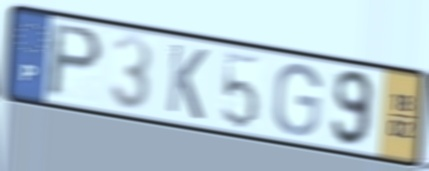3: (107, 30, 155, 115)
5: (219, 48, 263, 131)
9: (330, 69, 377, 150)
G: (270, 61, 324, 139)
K: (164, 40, 211, 123)
P: (44, 20, 108, 101)
